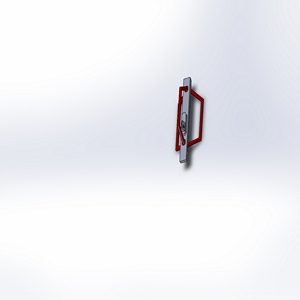submarine: (155, 69, 207, 173)
